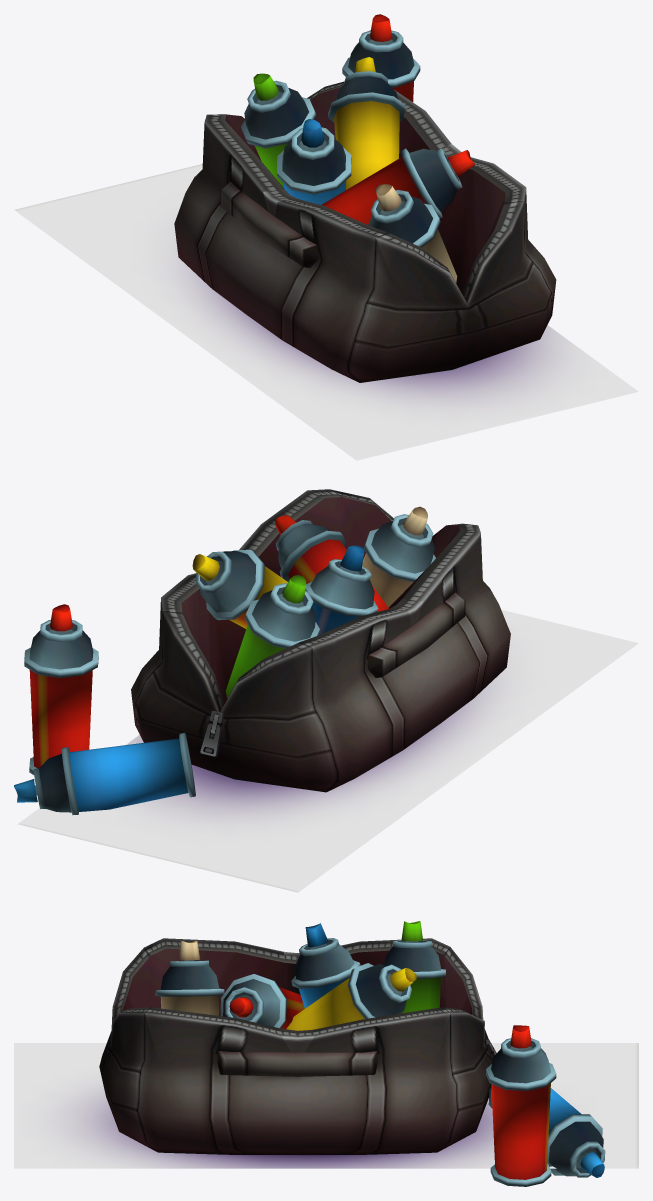
Rendered from bag.glb.
3 views of the same model, one above another, from view 1: azimuth 30°, elevation 25°; view 2: azimuth 150°, elevation 25°; view 3: azimuth 270°, elevation 25° (orthographic). The views are drawn at different scales.
Parts seen in each view (by area): view 1: bag, shadow; view 2: bag, shadow, zipper; view 3: bag, shadow.
Boxes of the visible parts, x1,y1,x2,y2 form: bag: (174, 14, 556, 382); shadow: (14, 164, 638, 460); bag: (14, 489, 510, 815); shadow: (17, 609, 638, 892); zipper: (200, 711, 224, 757); bag: (99, 921, 605, 1186); shadow: (14, 1043, 638, 1168).
Size of the model in its own units: 4.84 by 2.94 by 8.56.
2 materials, 2 textured.
